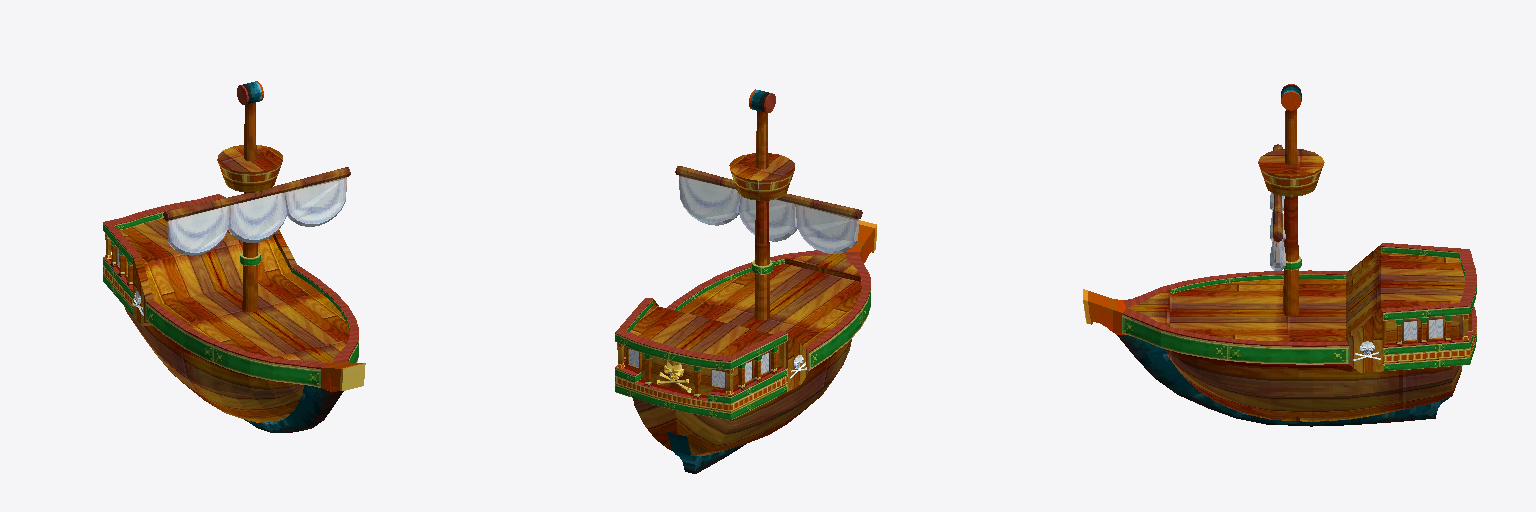
3 renders of one model, left to right at view 1: azimuth 30°, elevation 25°; view 2: azimuth 150°, elevation 25°; view 3: azimuth 270°, elevation 25°, orthographic.
Visible parts, largest first — view 1: Object_piraSS00.jpg; view 2: Object_piraSS00.jpg; view 3: Object_piraSS00.jpg.
Boxes of the visible parts, x1=… form: Object_piraSS00.jpg: x1=103, y1=81, x2=365, y2=432; Object_piraSS00.jpg: x1=615, y1=89, x2=876, y2=473; Object_piraSS00.jpg: x1=1083, y1=84, x2=1476, y2=426.
Bounding box in the file's own units: 1.34 × 2.35 × 2.5.
Materials: 2 (1 with a texture image).